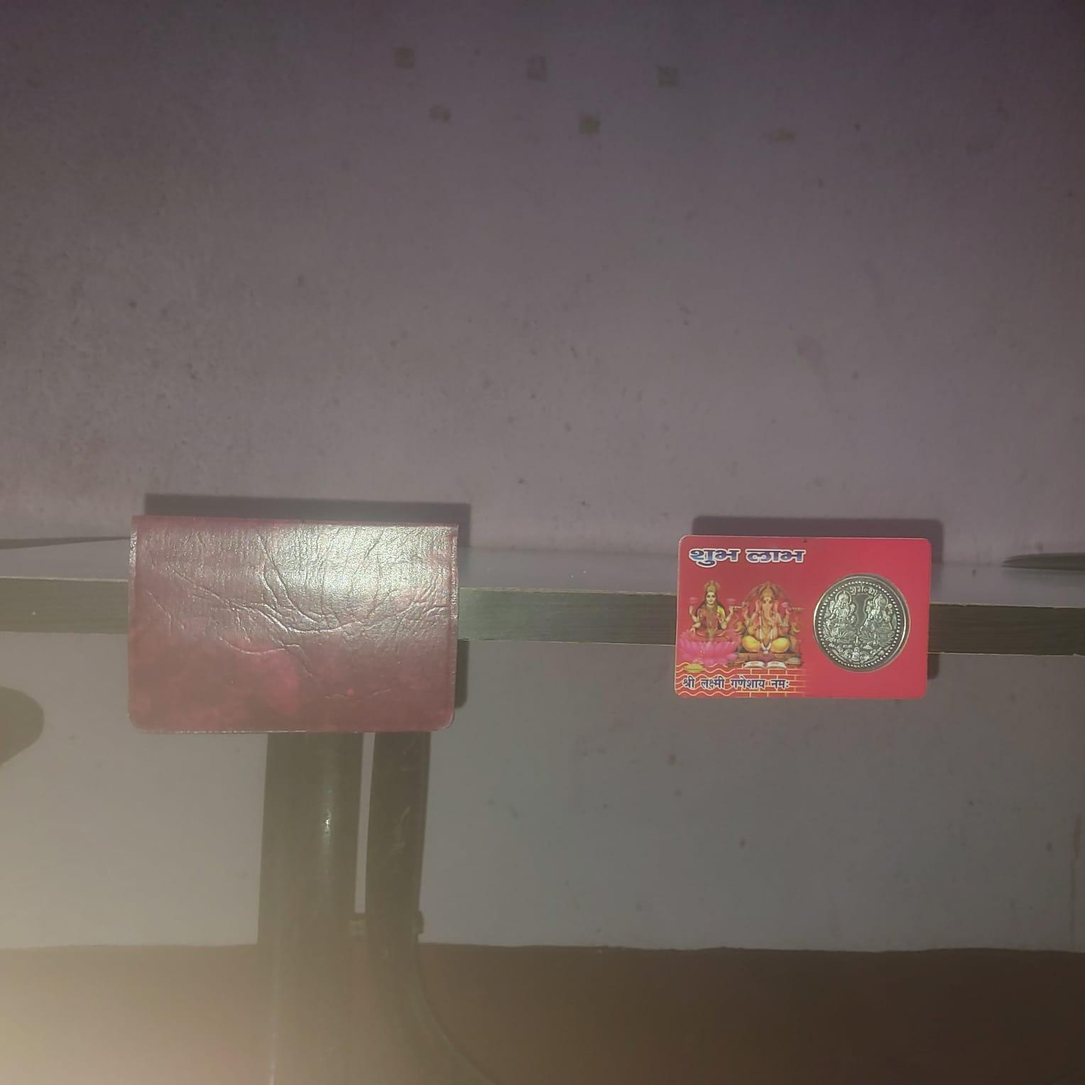blessing_card: (675, 531, 937, 699)
wallet: (129, 512, 469, 734)
